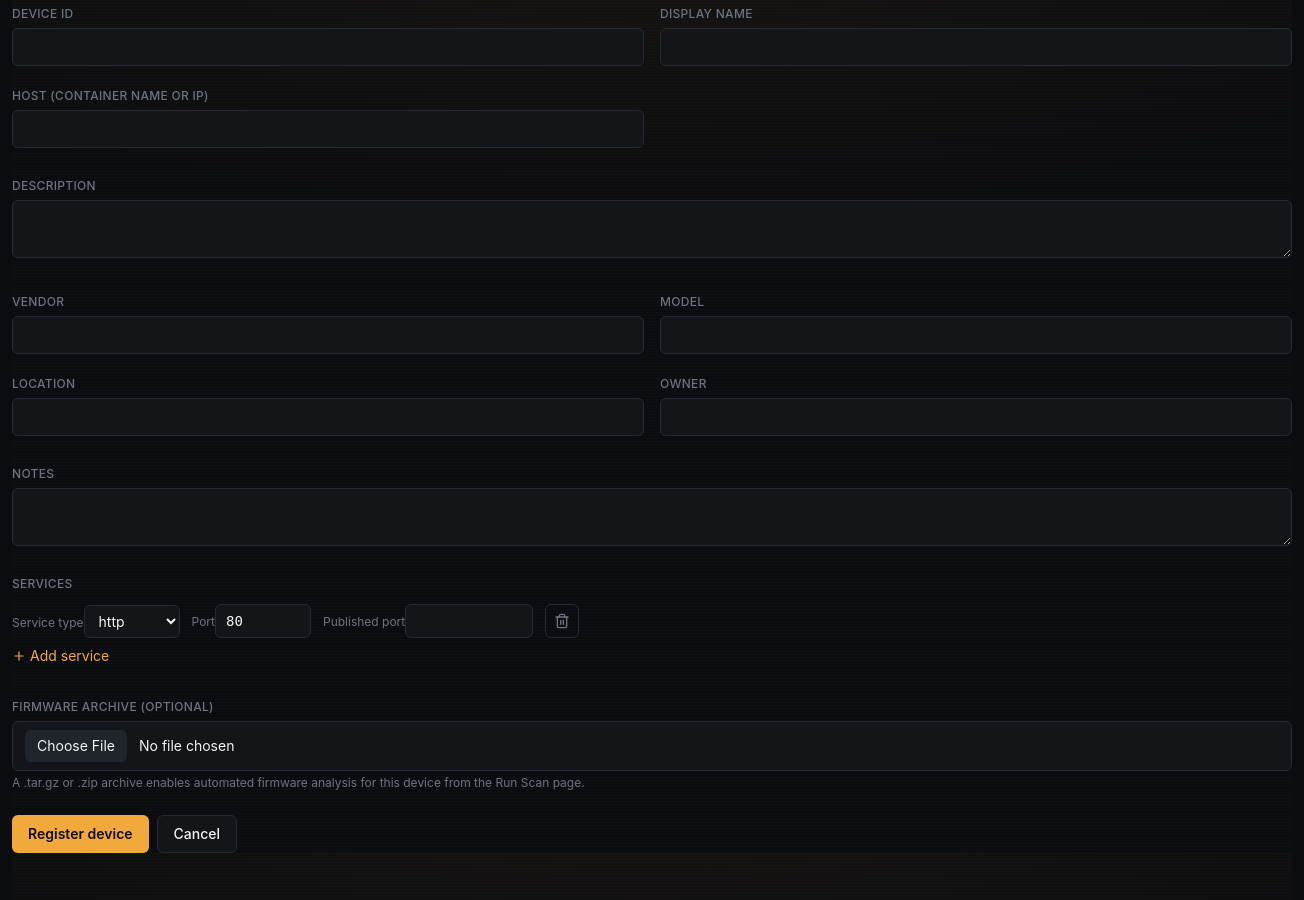
RegisterDeviceForm › can add and remove service rows
Expected: the number of dropdowns labelled "Service type" is 1, x1=84 y1=605 x2=180 y2=638
Click the button "Add service": {"x": 61, "y": 656} x1=12 y1=646 x2=109 y2=666
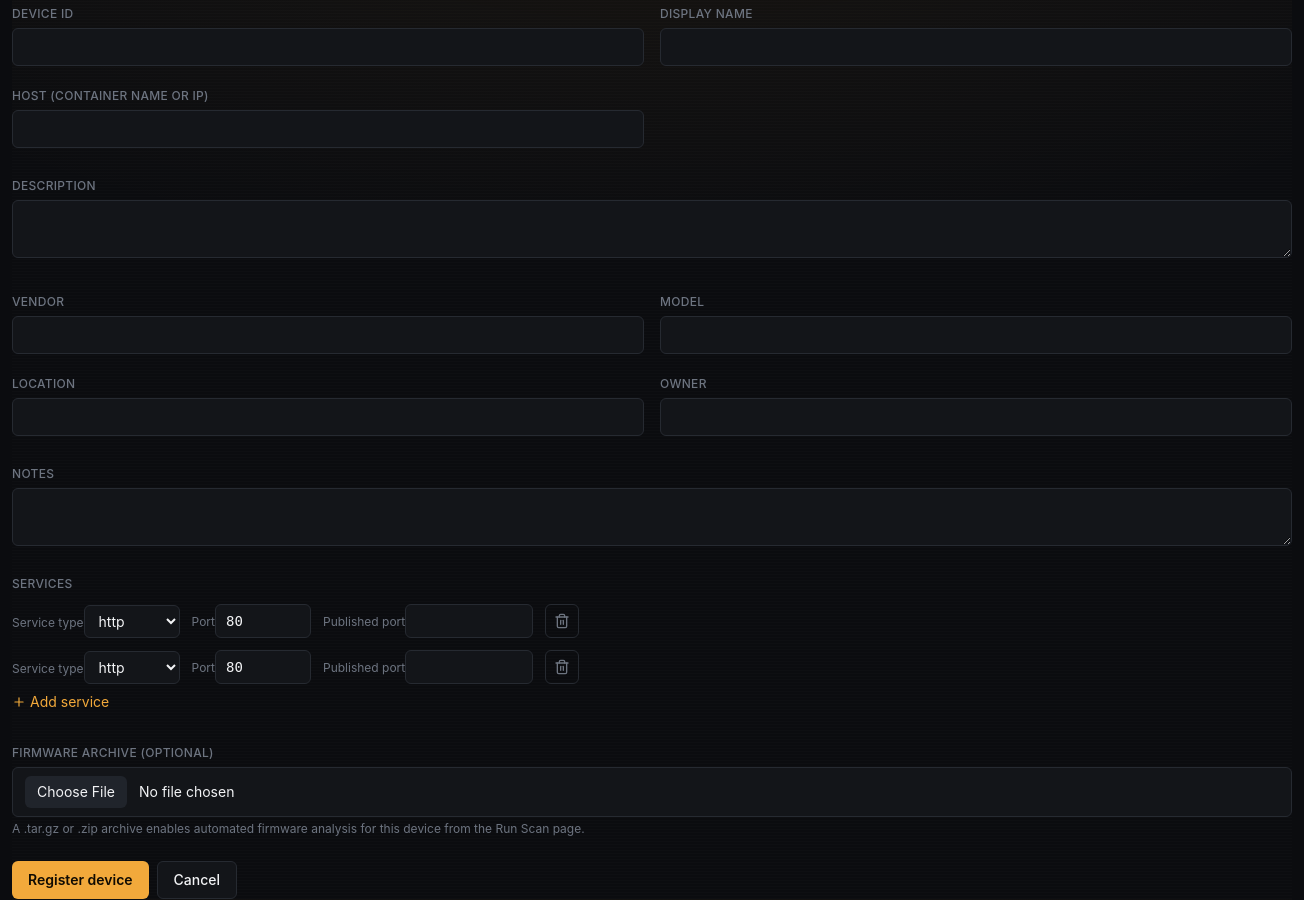
Expected: the number of dropdowns labelled "Service type" is 2, x1=84 y1=605 x2=180 y2=638; x1=84 y1=651 x2=180 y2=684
Click the 2nd button named "remove service": {"x": 562, "y": 667} x1=545 y1=650 x2=579 y2=684
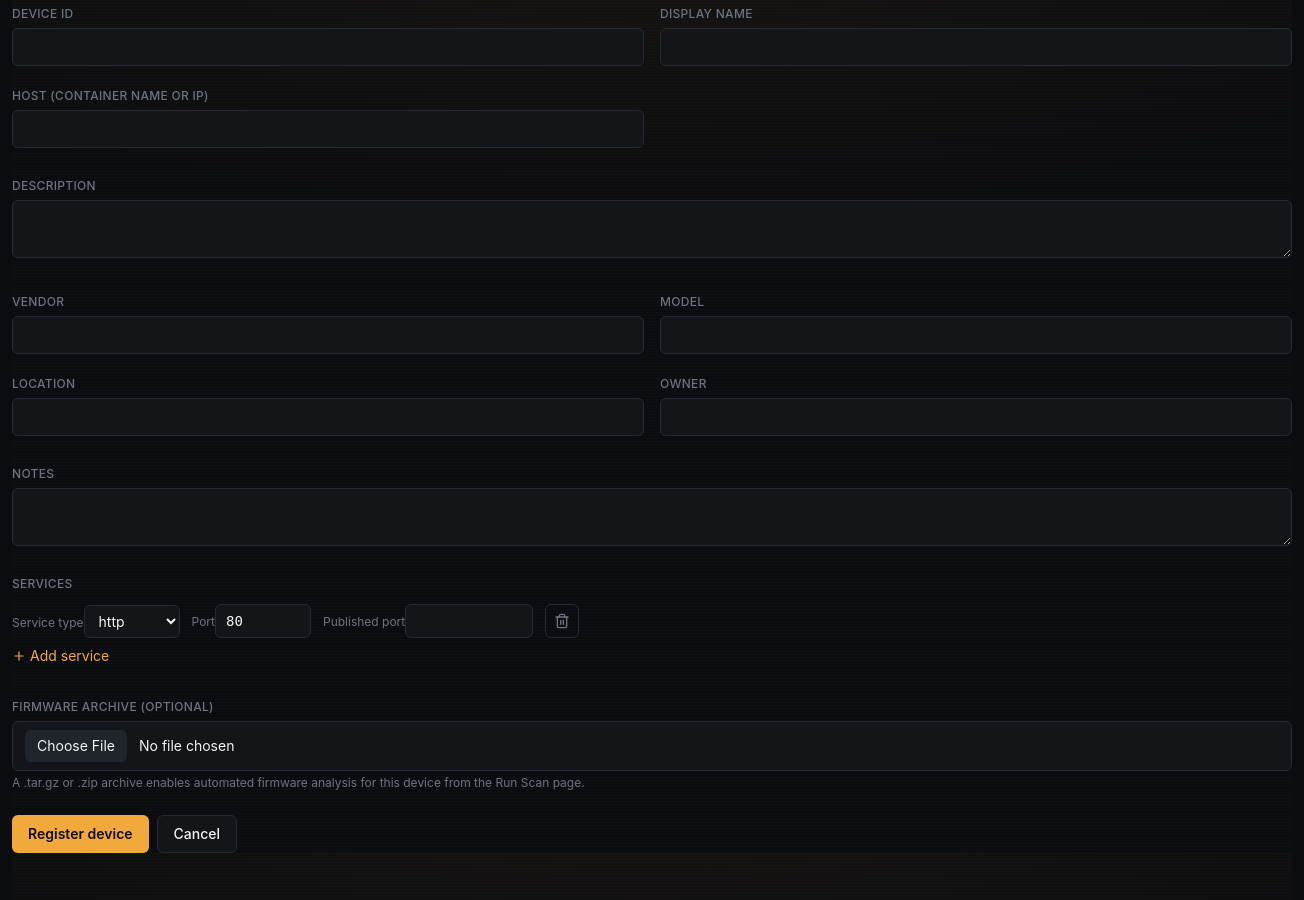
Expected: the number of dropdowns labelled "Service type" is 1, x1=84 y1=605 x2=180 y2=638
